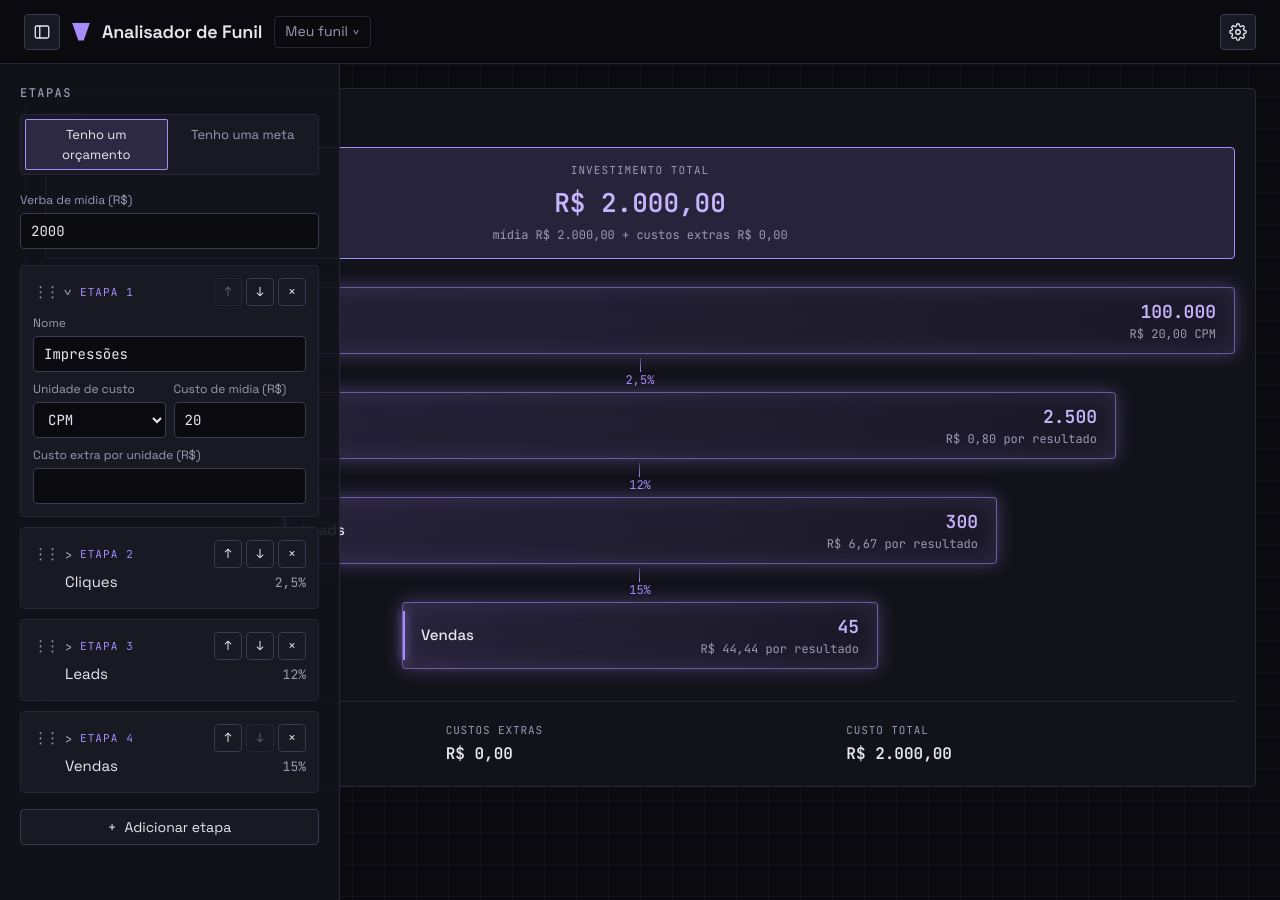
Test: tela (testes extras) › na primeira vez, sem cor pronta trocada, o campo começa com o Violeta do escuro, mesmo no tema claro
What coordinates should you click on to do the following:
click the button named "Configurações"
I would click on:
 (1238, 32)
Its box is [1220, 14, 1256, 50].
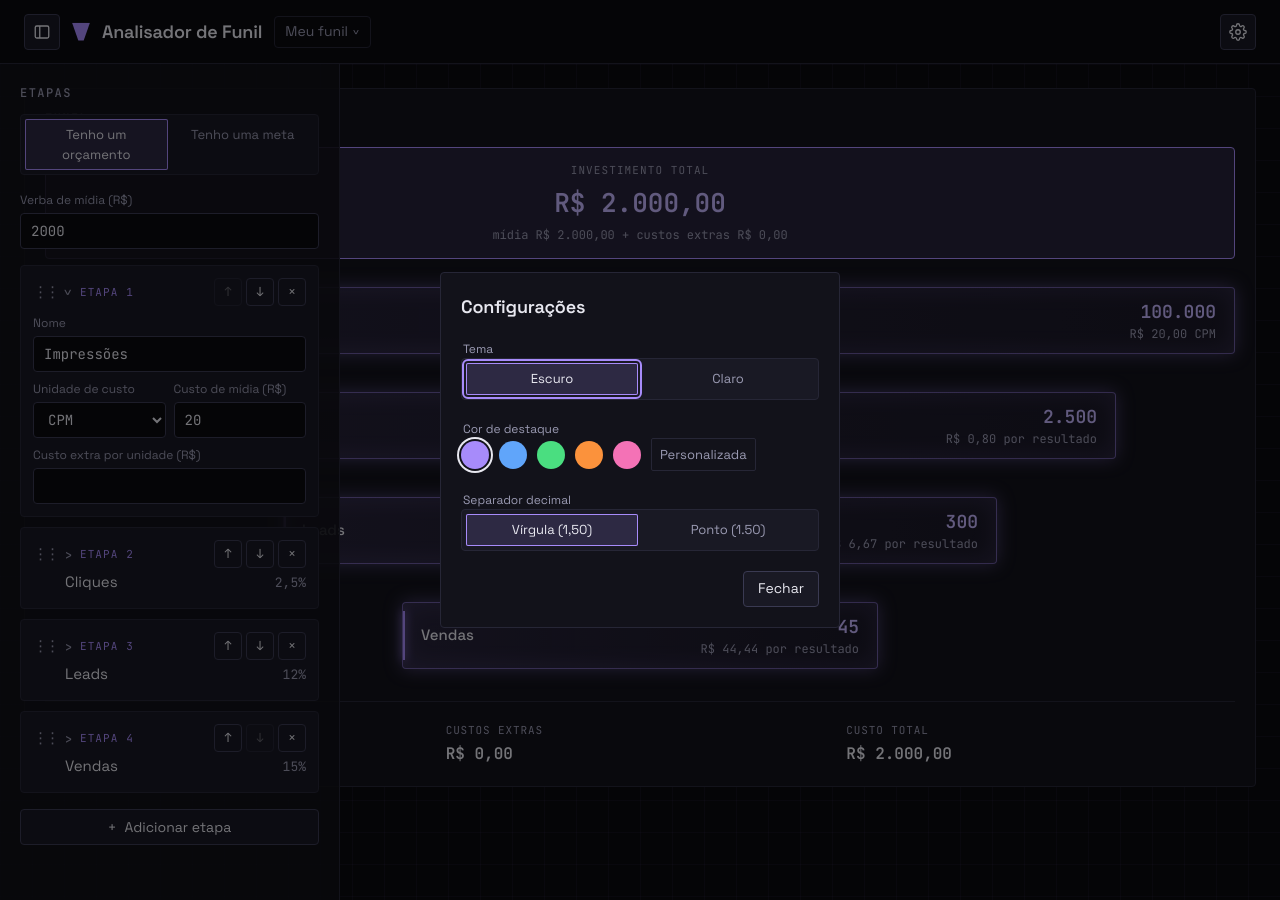
What coordinates should you click on to do the following:
click the 1st radio button labelled "Claro"
I would click on:
 (728, 379)
Its box is [712, 370, 744, 387].
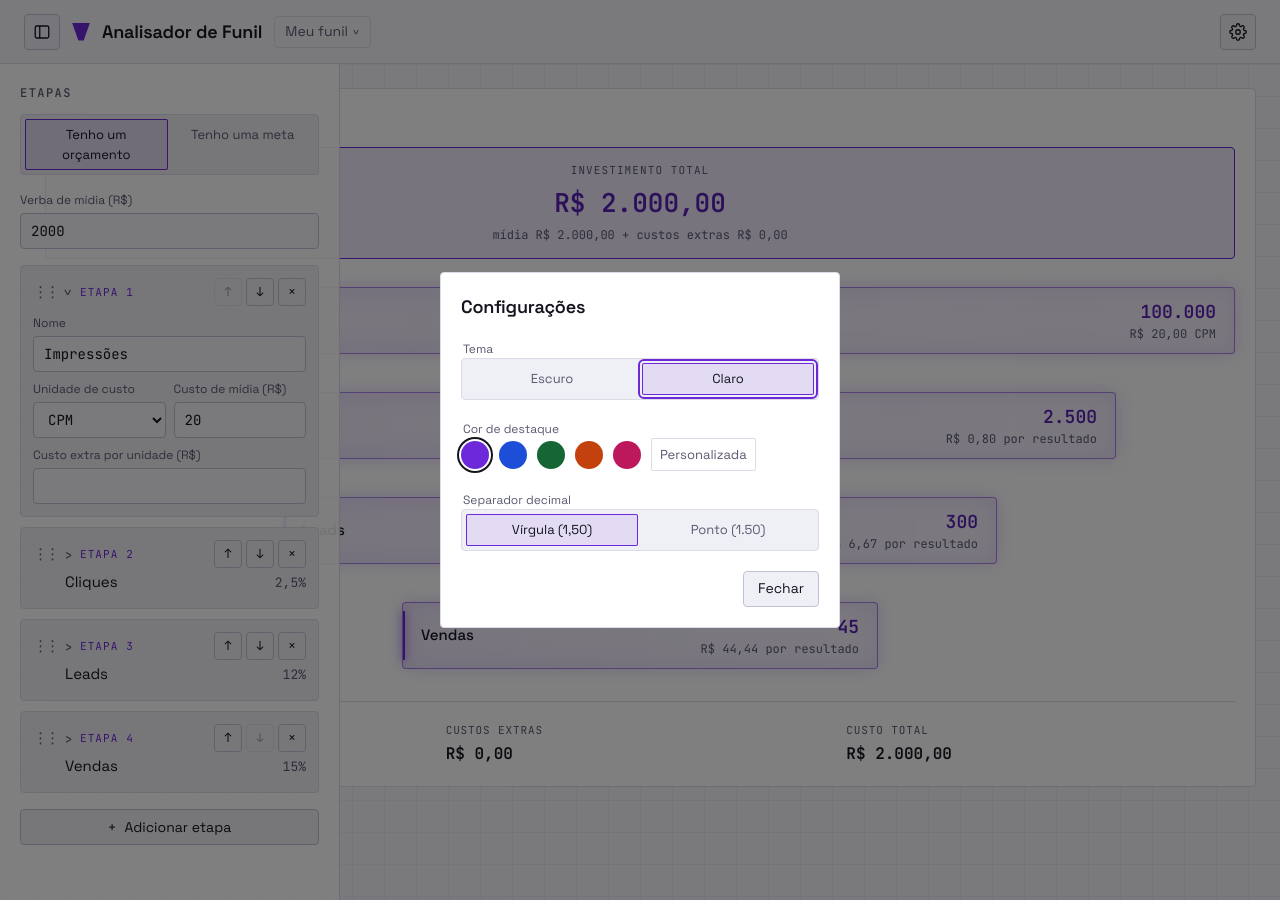
What coordinates should you click on to do the following:
click the 6th radio button labelled "Personalizada"
I would click on:
 (703, 455)
Its box is [651, 438, 756, 471].
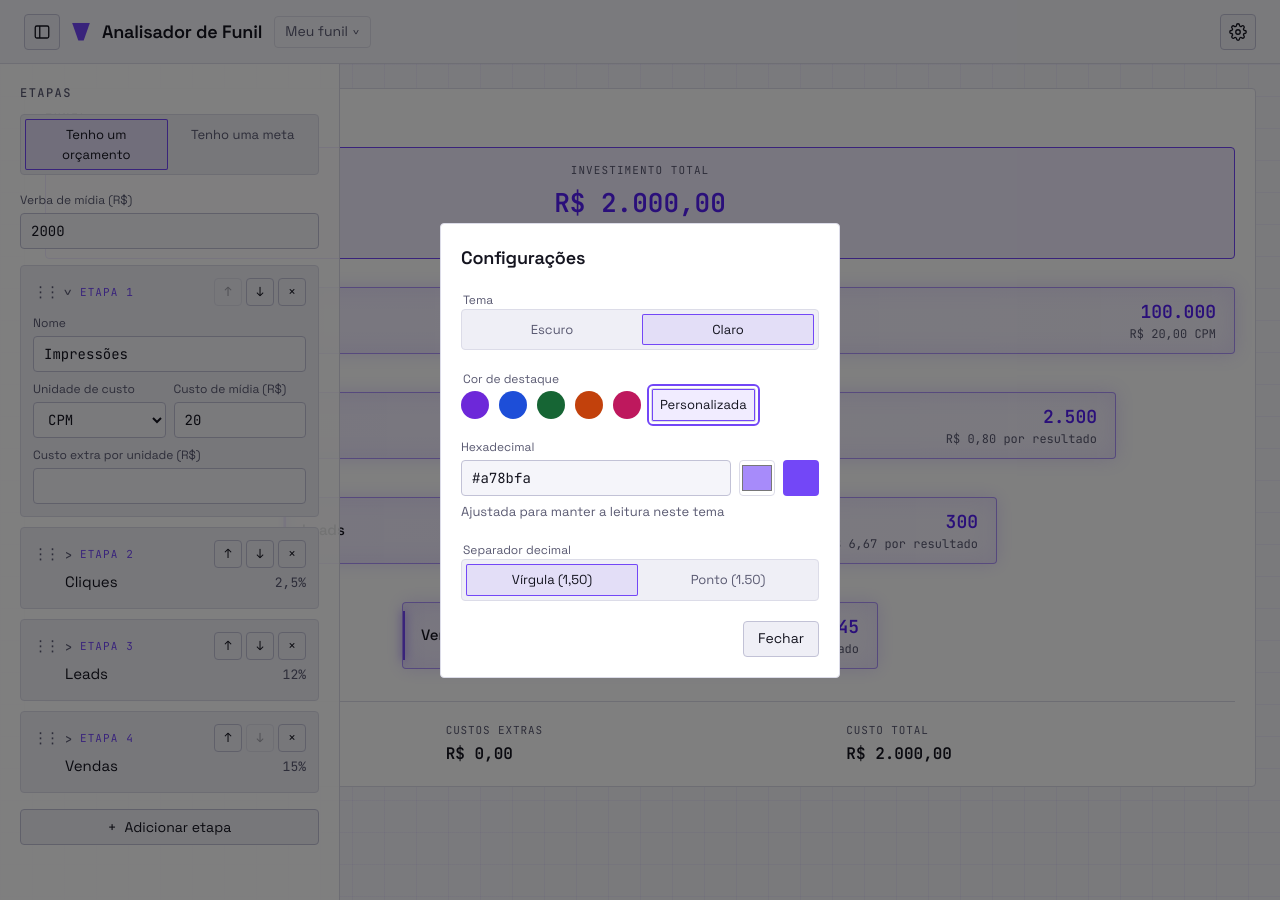
Expected: the field labelled "Hexadecimal" holds "#a78bfa", [461, 460, 731, 496]
